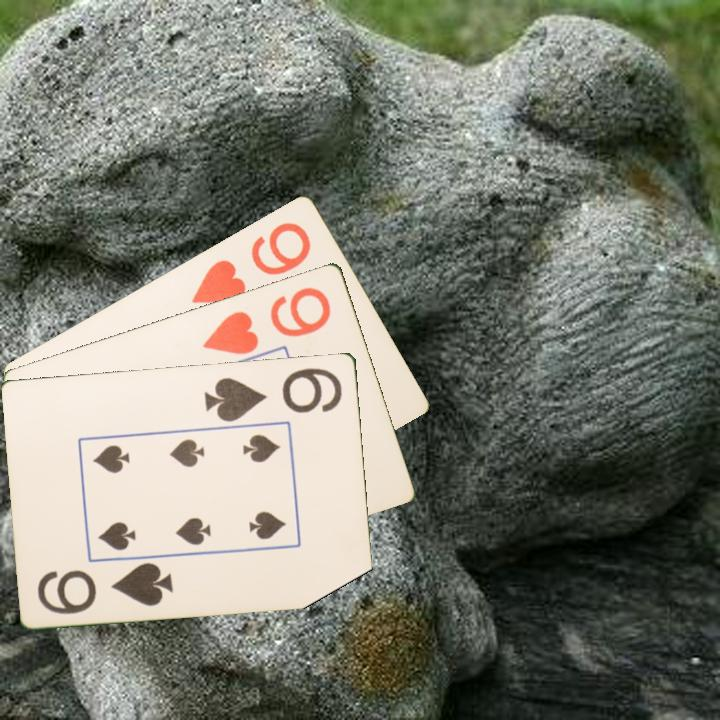6s: (201, 364, 346, 424), (34, 558, 176, 617)
9h: (188, 217, 315, 306), (199, 283, 334, 357)
